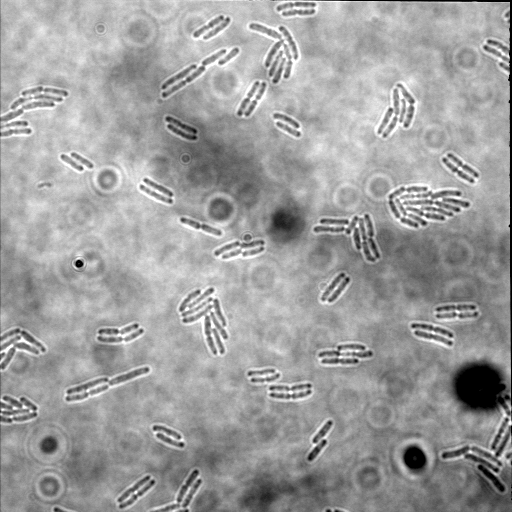Dividing: (161, 65, 204, 99), (118, 477, 158, 509), (116, 472, 152, 503), (440, 157, 476, 185), (176, 216, 224, 237), (445, 151, 480, 179), (63, 383, 109, 403), (174, 468, 200, 503), (96, 326, 145, 344), (192, 12, 224, 39), (318, 271, 344, 302), (138, 183, 173, 205), (179, 478, 203, 509), (409, 321, 455, 337), (412, 330, 454, 347), (164, 114, 198, 134), (149, 422, 182, 441), (96, 322, 140, 336), (142, 176, 172, 196), (434, 302, 478, 314), (317, 350, 374, 359), (268, 390, 314, 401), (274, 1, 318, 12), (56, 154, 84, 171), (268, 381, 311, 392), (250, 371, 282, 385), (320, 357, 360, 367), (281, 7, 315, 18), (435, 311, 479, 318)
Microcolony: (437, 390, 512, 494), (1, 84, 74, 140), (176, 287, 233, 358), (387, 184, 472, 230), (310, 212, 381, 264), (246, 20, 300, 85), (374, 79, 416, 138), (1, 327, 51, 371), (1, 393, 40, 425), (212, 238, 266, 260)
Rod: (107, 364, 152, 388), (160, 62, 196, 90), (65, 375, 108, 396), (310, 417, 336, 446), (326, 276, 351, 303), (165, 122, 197, 142), (305, 438, 329, 463), (201, 46, 227, 67), (272, 111, 302, 129), (155, 432, 185, 450), (274, 120, 302, 139), (218, 44, 239, 67), (70, 151, 93, 170), (335, 342, 367, 353), (245, 367, 275, 377)
